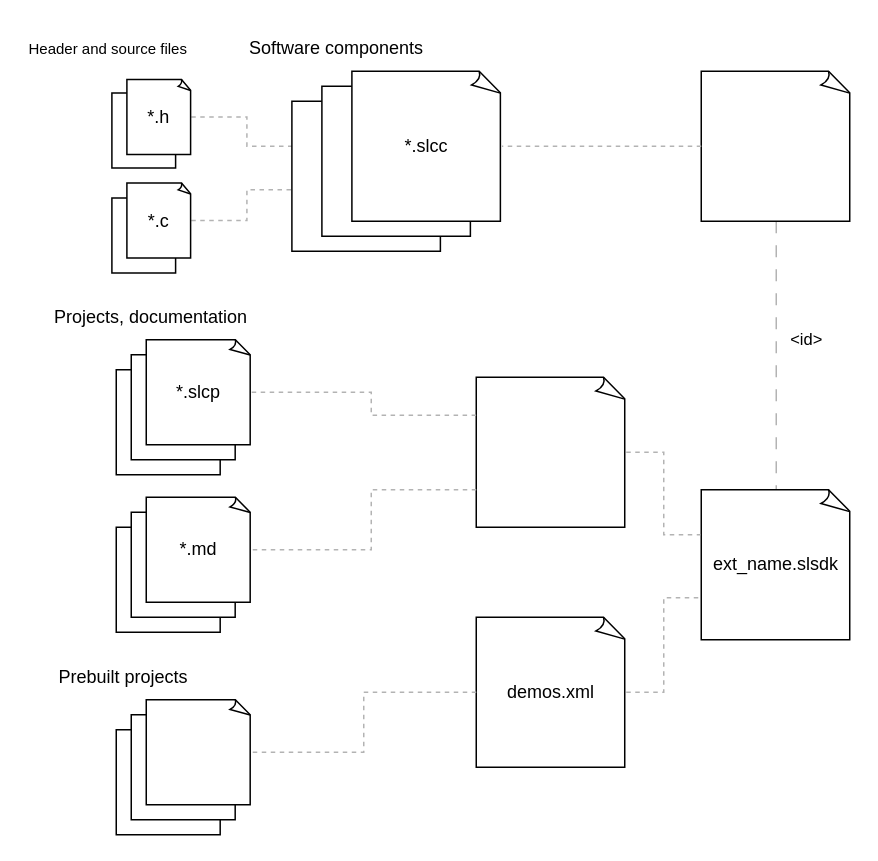
Some shapes in this 878 by 861 pixel diagram are drawn without their labels. Here are the shapes that lost their labels. From the top down, the centre of each, then its label:
At (775,145): "ext_name.slce".
At (550,451): "templates.xml".
At (198,751): "*.bin *.hex *.s37".
